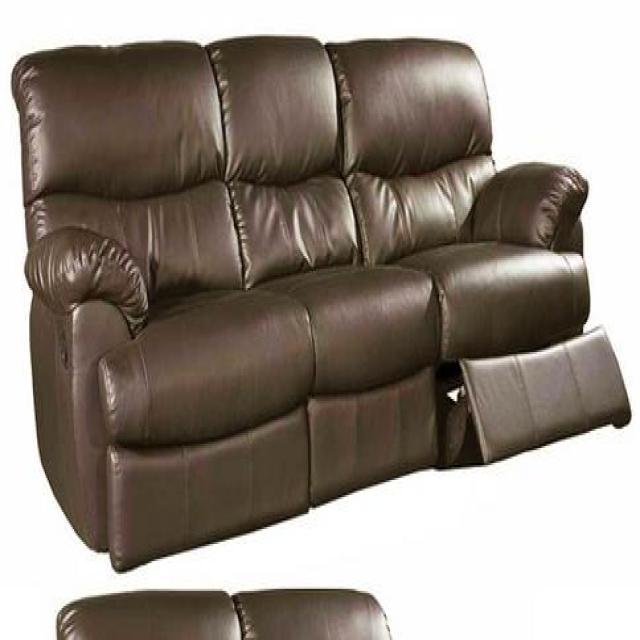sofa: (5, 32, 633, 574)
